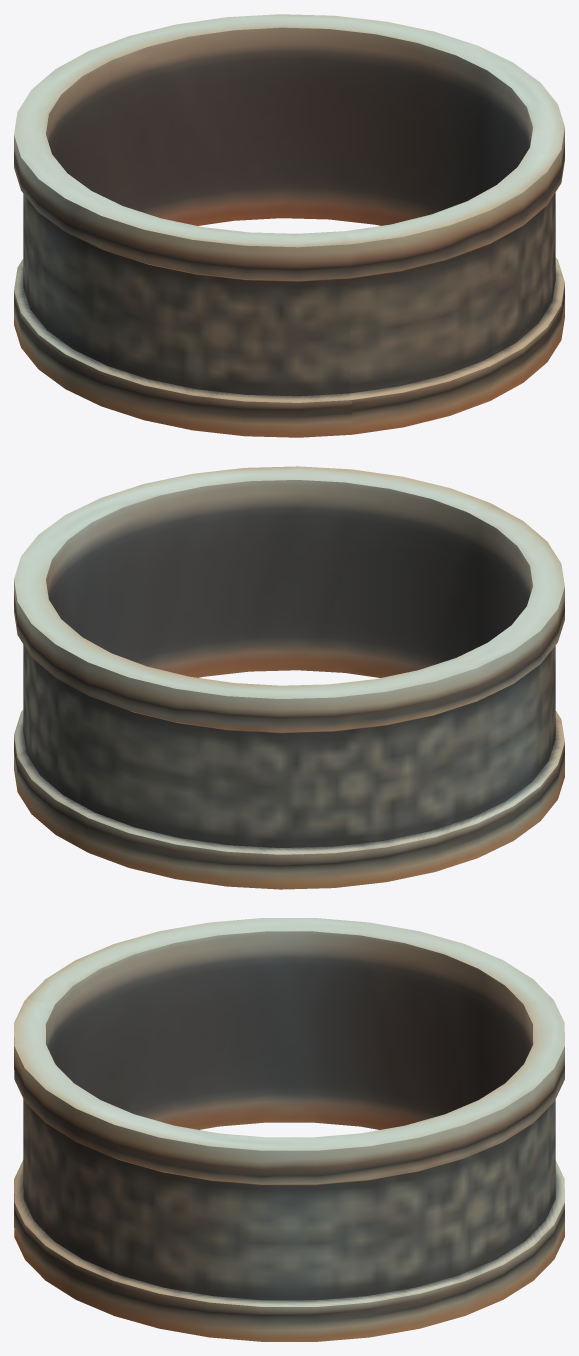
File: SM_Ring_A_Bronze.fbx
The picture shows the model from 3 angles, top to bottom: view 1: azimuth 30°, elevation 25°; view 2: azimuth 150°, elevation 25°; view 3: azimuth 270°, elevation 25°; orthographic projection.
Visible parts, largest first — view 1: SM_Ring_A_Bronze_LOD0; view 2: SM_Ring_A_Bronze_LOD0; view 3: SM_Ring_A_Bronze_LOD0.
Part boxes in pixels (<box>): SM_Ring_A_Bronze_LOD0: <box>14,14,564,437</box>; SM_Ring_A_Bronze_LOD0: <box>14,466,564,889</box>; SM_Ring_A_Bronze_LOD0: <box>14,918,564,1341</box>.
Size of the model in its own units: 3.29 by 3.29 by 1.26.
Materials: 1 (1 with a texture image).
